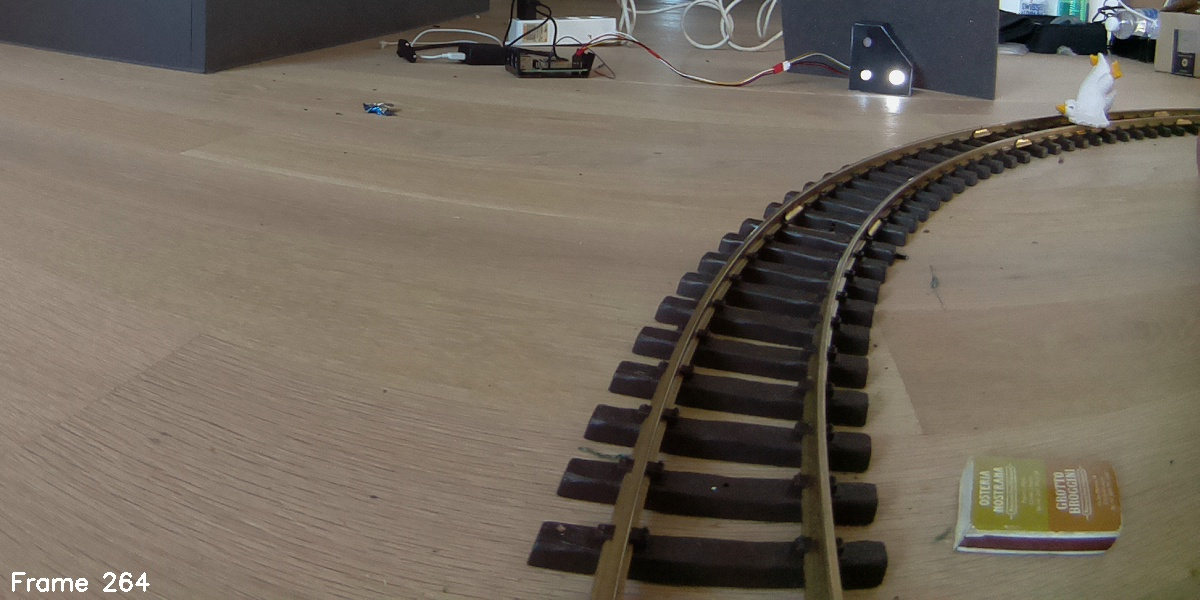Ente: (1050, 46, 1124, 136)
Halt: (850, 21, 917, 97)
